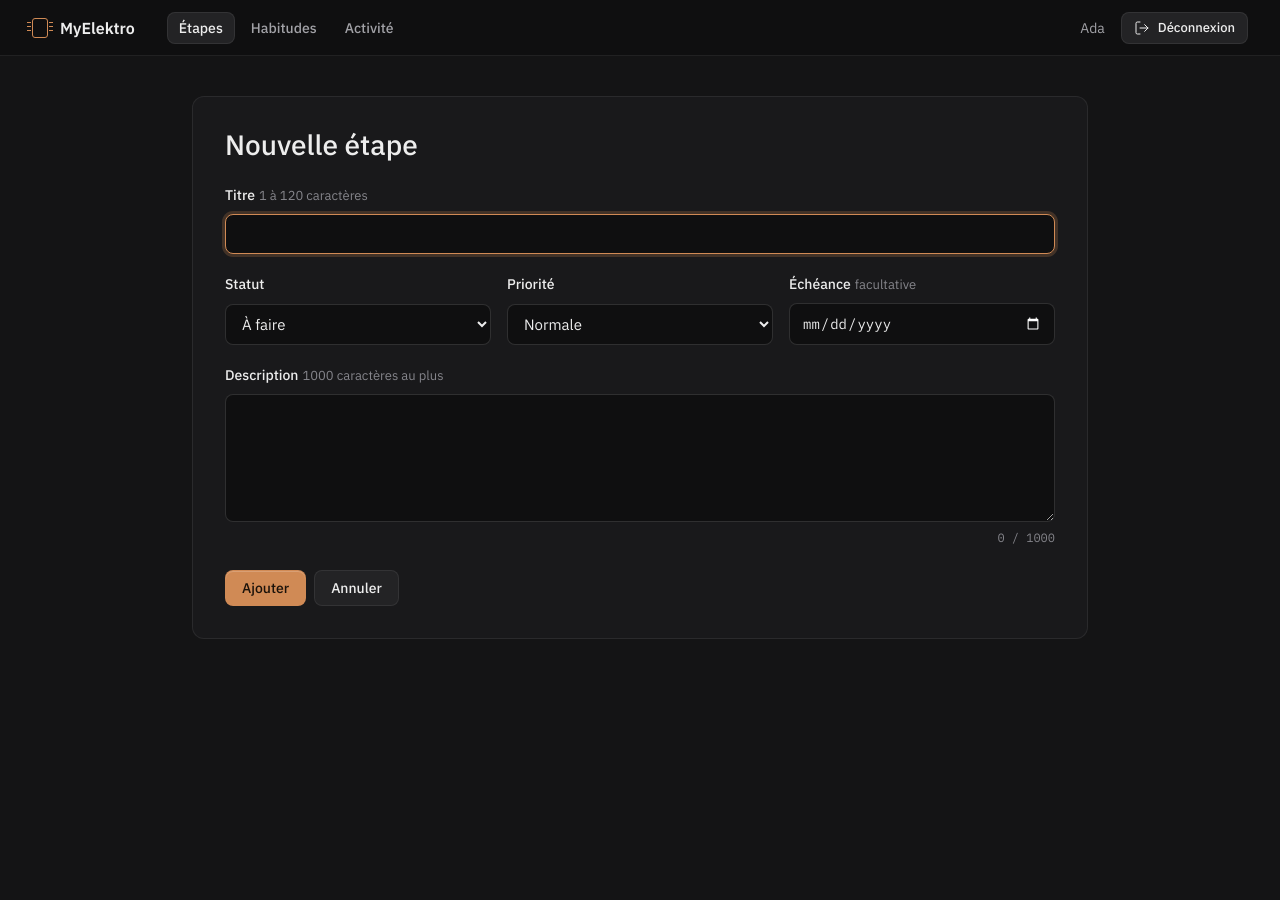
Test case: formulaire › refuse un titre vide sans appeler l’API, puis crée l’étape
Later steps or results of the test are not shown.
Click the button "Ajouter" at {"x": 266, "y": 588}, box 225,570 -> 306,606
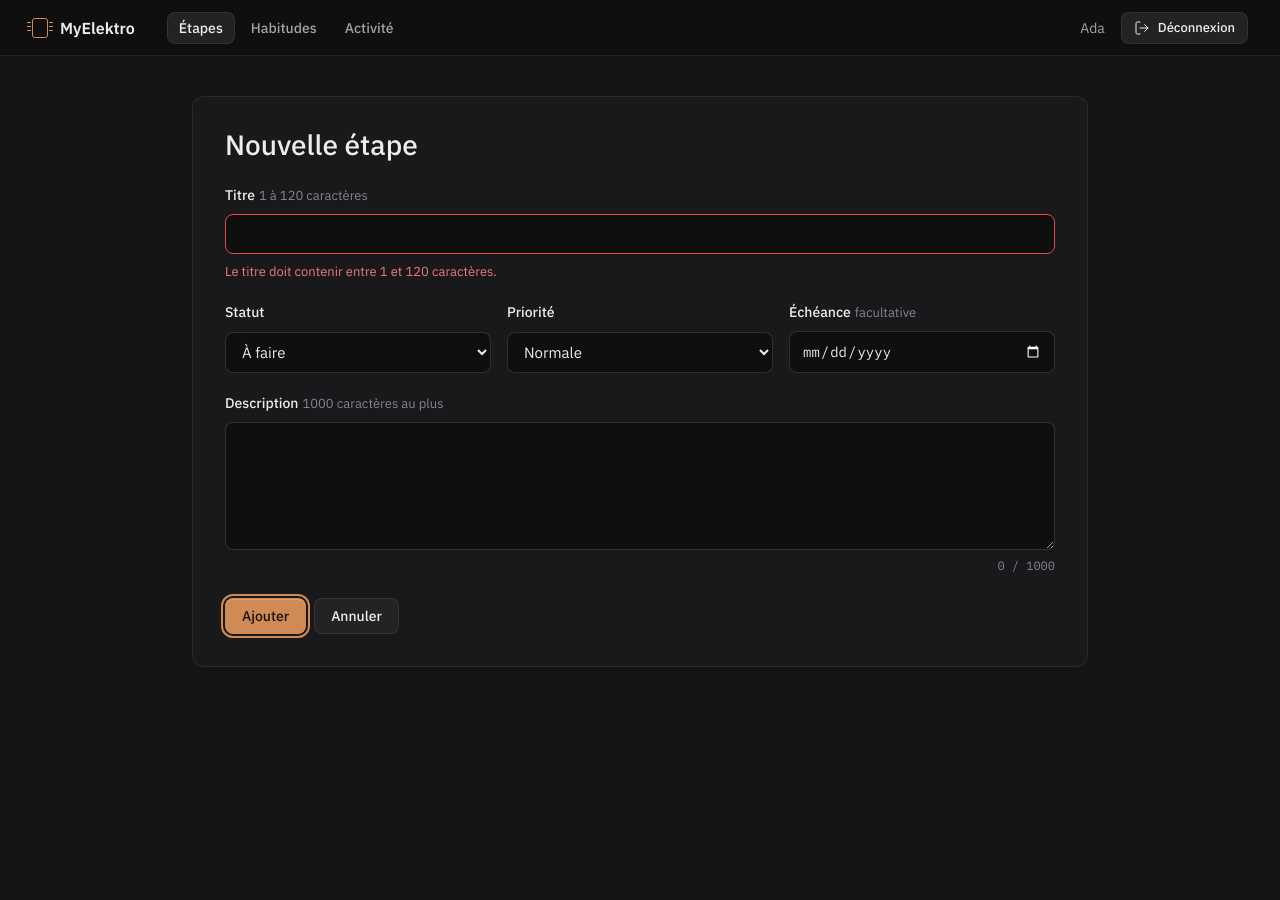
Expected: the text "Le titre doit contenir entre 1 et 120 caractères." is shown, 225,263 -> 497,280
